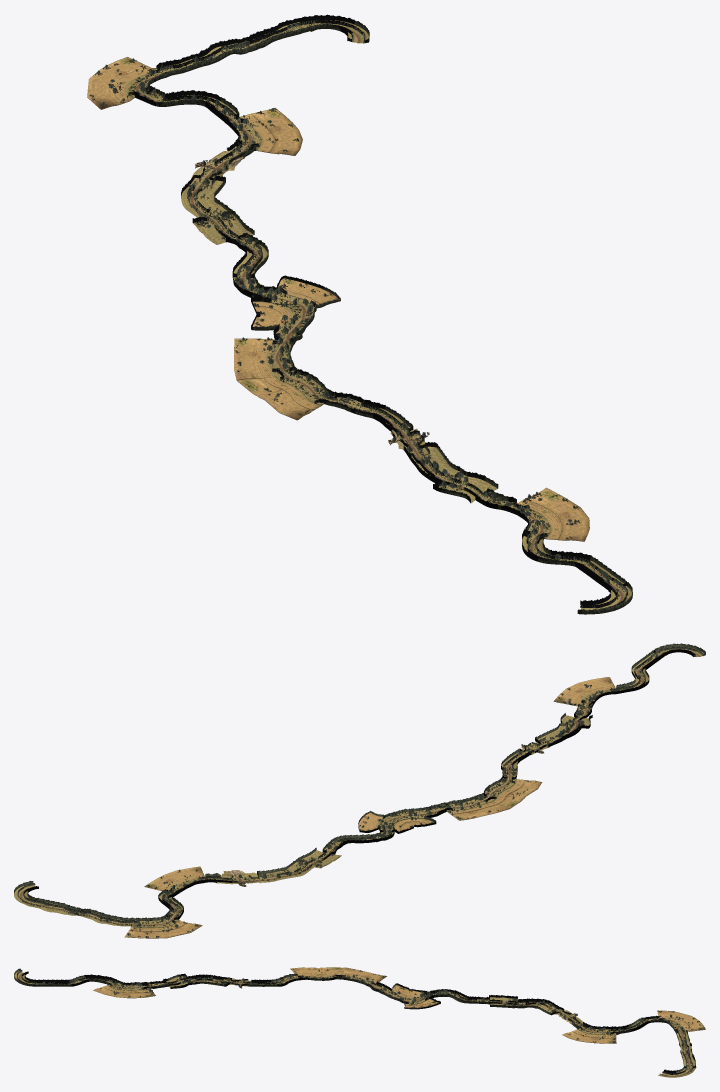
The model's file is kenya_stage3_visual.glb.
The picture shows the model from 3 angles, top to bottom: view 1: azimuth 30°, elevation 25°; view 2: azimuth 150°, elevation 25°; view 3: azimuth 270°, elevation 25°; orthographic projection. The views are drawn at different scales.
Visible parts, largest first — view 1: Track_Road_And_Terrain, Foliage_And_Vegetation; view 2: Track_Road_And_Terrain, Foliage_And_Vegetation; view 3: Track_Road_And_Terrain, Foliage_And_Vegetation.
Part boxes in pixels (left/top/right/bottom): Track_Road_And_Terrain: left=87, top=14, right=632, bottom=614; Foliage_And_Vegetation: left=89, top=21, right=624, bottom=599; Track_Road_And_Terrain: left=14, top=643, right=705, bottom=938; Foliage_And_Vegetation: left=24, top=651, right=665, bottom=938; Track_Road_And_Terrain: left=14, top=967, right=705, bottom=1077; Foliage_And_Vegetation: left=26, top=968, right=701, bottom=1071.
Bounding box in the file's own units: 1396 × 52.34 × 3677.
Materials: 31 (31 with a texture image).
